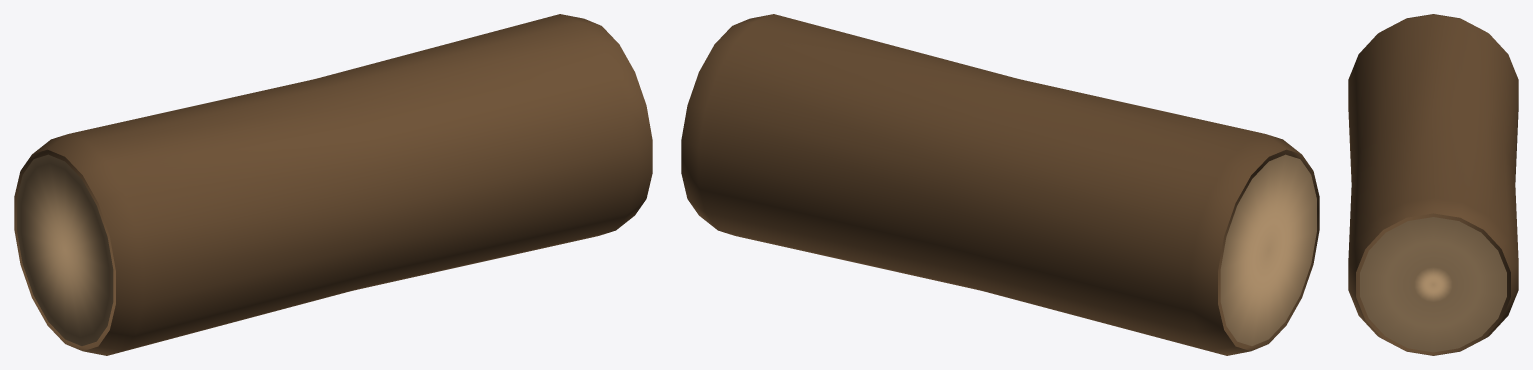
File: log.glb
The picture shows the model from 3 angles, left to right: view 1: azimuth 30°, elevation 25°; view 2: azimuth 150°, elevation 25°; view 3: azimuth 270°, elevation 25°; orthographic projection. The views are drawn at different scales.
Parts seen in each view (by area): view 1: log_main; view 2: log_main; view 3: log_main.
Part boxes in pixels (x1,y1,x2,y2): log_main: [14, 14, 652, 355]; log_main: [681, 14, 1319, 355]; log_main: [1348, 14, 1518, 355].
Bounding box in the file's own units: 1.2 × 0.44 × 0.4333.
